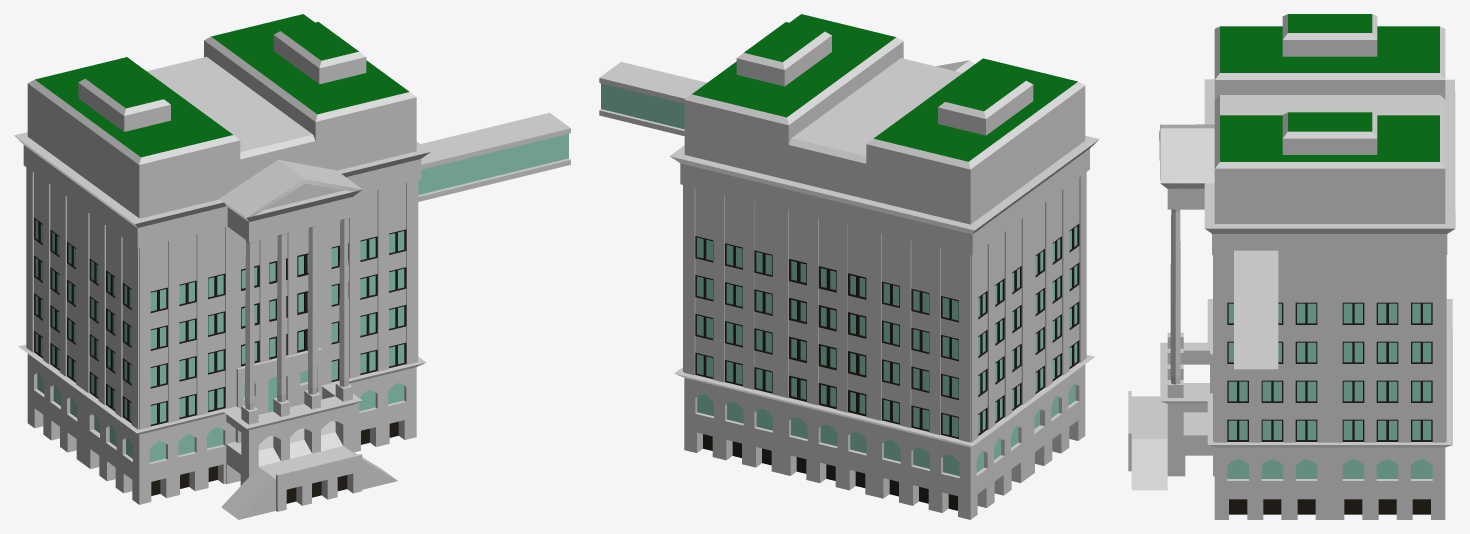
File: Enrique Yuchengco Hall.fbx
3 renders of one model, left to right at view 1: azimuth 30°, elevation 25°; view 2: azimuth 150°, elevation 25°; view 3: azimuth 270°, elevation 25°, orthographic. The views are drawn at different scales.
Parts seen in each view (by area): view 1: Enrique Yuchengco Hall; view 2: Enrique Yuchengco Hall; view 3: Enrique Yuchengco Hall.
Boxes of the visible parts, x1,y1,x2,y2 form: Enrique Yuchengco Hall: [14, 14, 570, 519]; Enrique Yuchengco Hall: [599, 14, 1099, 519]; Enrique Yuchengco Hall: [1128, 14, 1455, 519].
Bounding box in the file's own units: 167 × 130 × 102.
